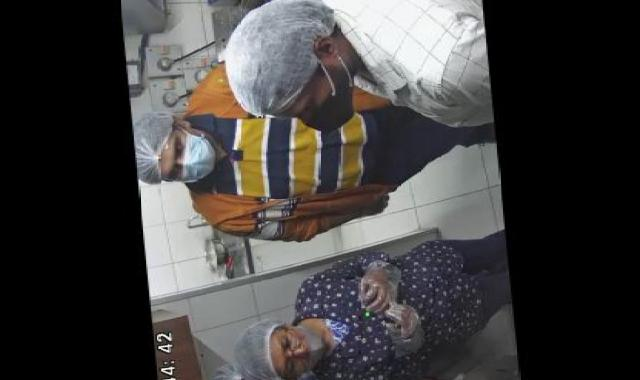hairnet: (226, 0, 339, 116), (232, 311, 293, 380), (136, 108, 186, 191)
